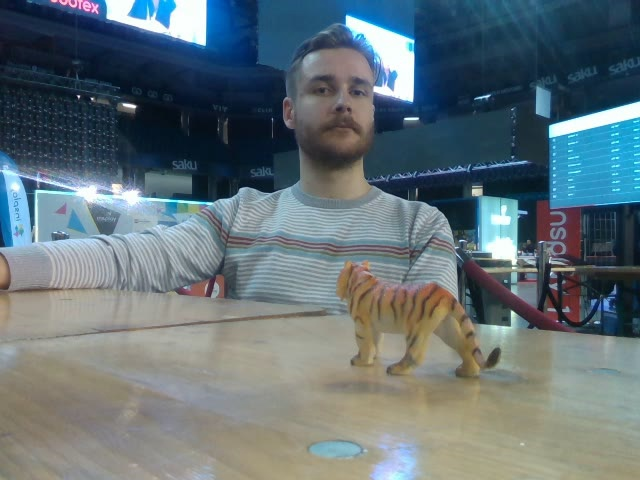toy: (334, 260, 503, 376)
